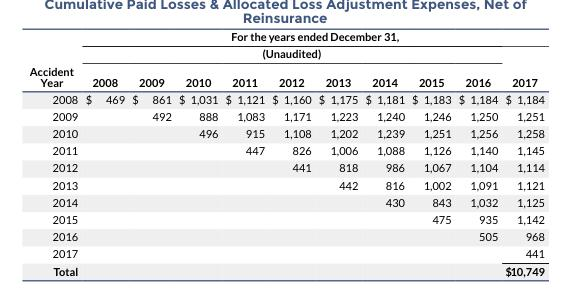table: (28, 29, 543, 276)
table column: (28, 29, 80, 276), (80, 29, 127, 276), (127, 29, 174, 276), (174, 29, 221, 276), (267, 29, 314, 276), (360, 29, 407, 276), (407, 29, 454, 276), (221, 29, 267, 276), (314, 29, 360, 276), (454, 29, 500, 276), (500, 29, 543, 276)
table column header: (28, 29, 543, 89)
table row: (28, 44, 543, 67), (28, 67, 543, 89), (28, 89, 543, 107), (28, 192, 543, 210), (28, 107, 543, 124), (28, 124, 543, 141), (28, 141, 543, 158), (28, 158, 543, 175), (28, 175, 543, 192), (28, 210, 543, 227), (28, 227, 543, 244), (28, 244, 543, 261), (28, 29, 543, 44), (28, 261, 543, 276)
table spanning cell: (80, 44, 500, 67), (80, 29, 543, 44), (28, 29, 80, 89), (500, 44, 543, 89)
